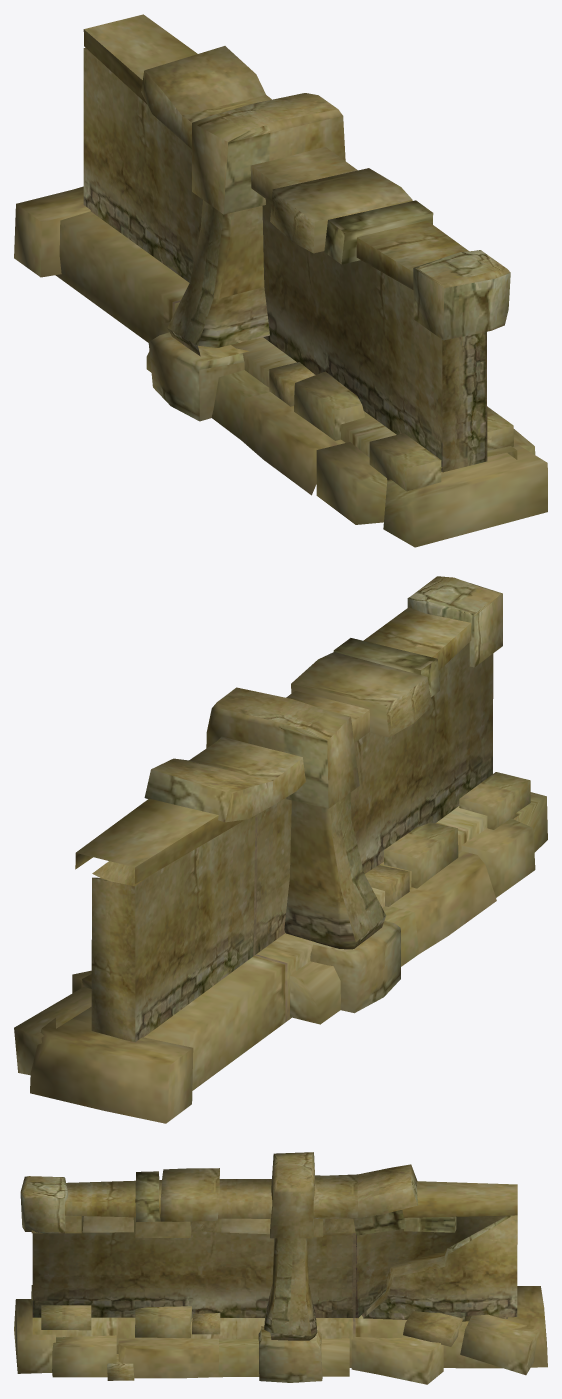
File: S_Build_Wilderness008.FBX
3 views of the same model, one above another, from view 1: azimuth 30°, elevation 25°; view 2: azimuth 150°, elevation 25°; view 3: azimuth 270°, elevation 25° (orthographic). The views are drawn at different scales.
Visible parts, largest first — view 1: S_Build_Wilderness008; view 2: S_Build_Wilderness008; view 3: S_Build_Wilderness008.
Boxes of the visible parts, bbox=[...] form: S_Build_Wilderness008: bbox=[14, 14, 547, 547]; S_Build_Wilderness008: bbox=[14, 576, 547, 1123]; S_Build_Wilderness008: bbox=[14, 1152, 547, 1384].
Bounding box in the file's own units: 361 × 1170 × 443.
